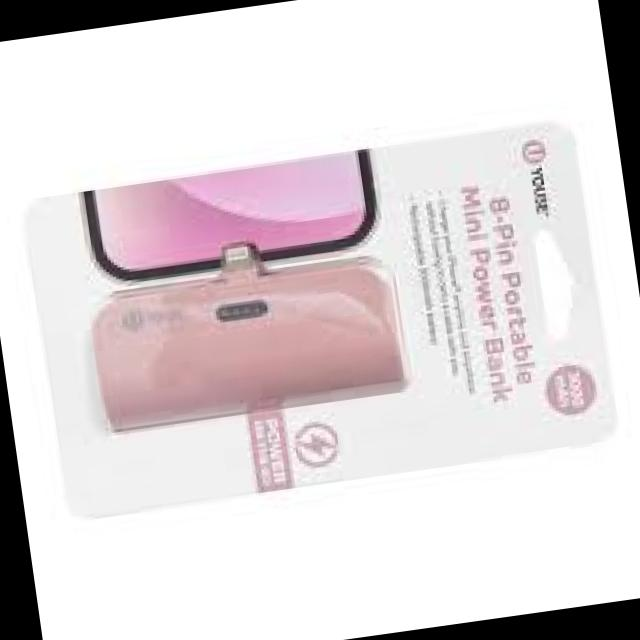portable-charger: (78, 217, 410, 446)
